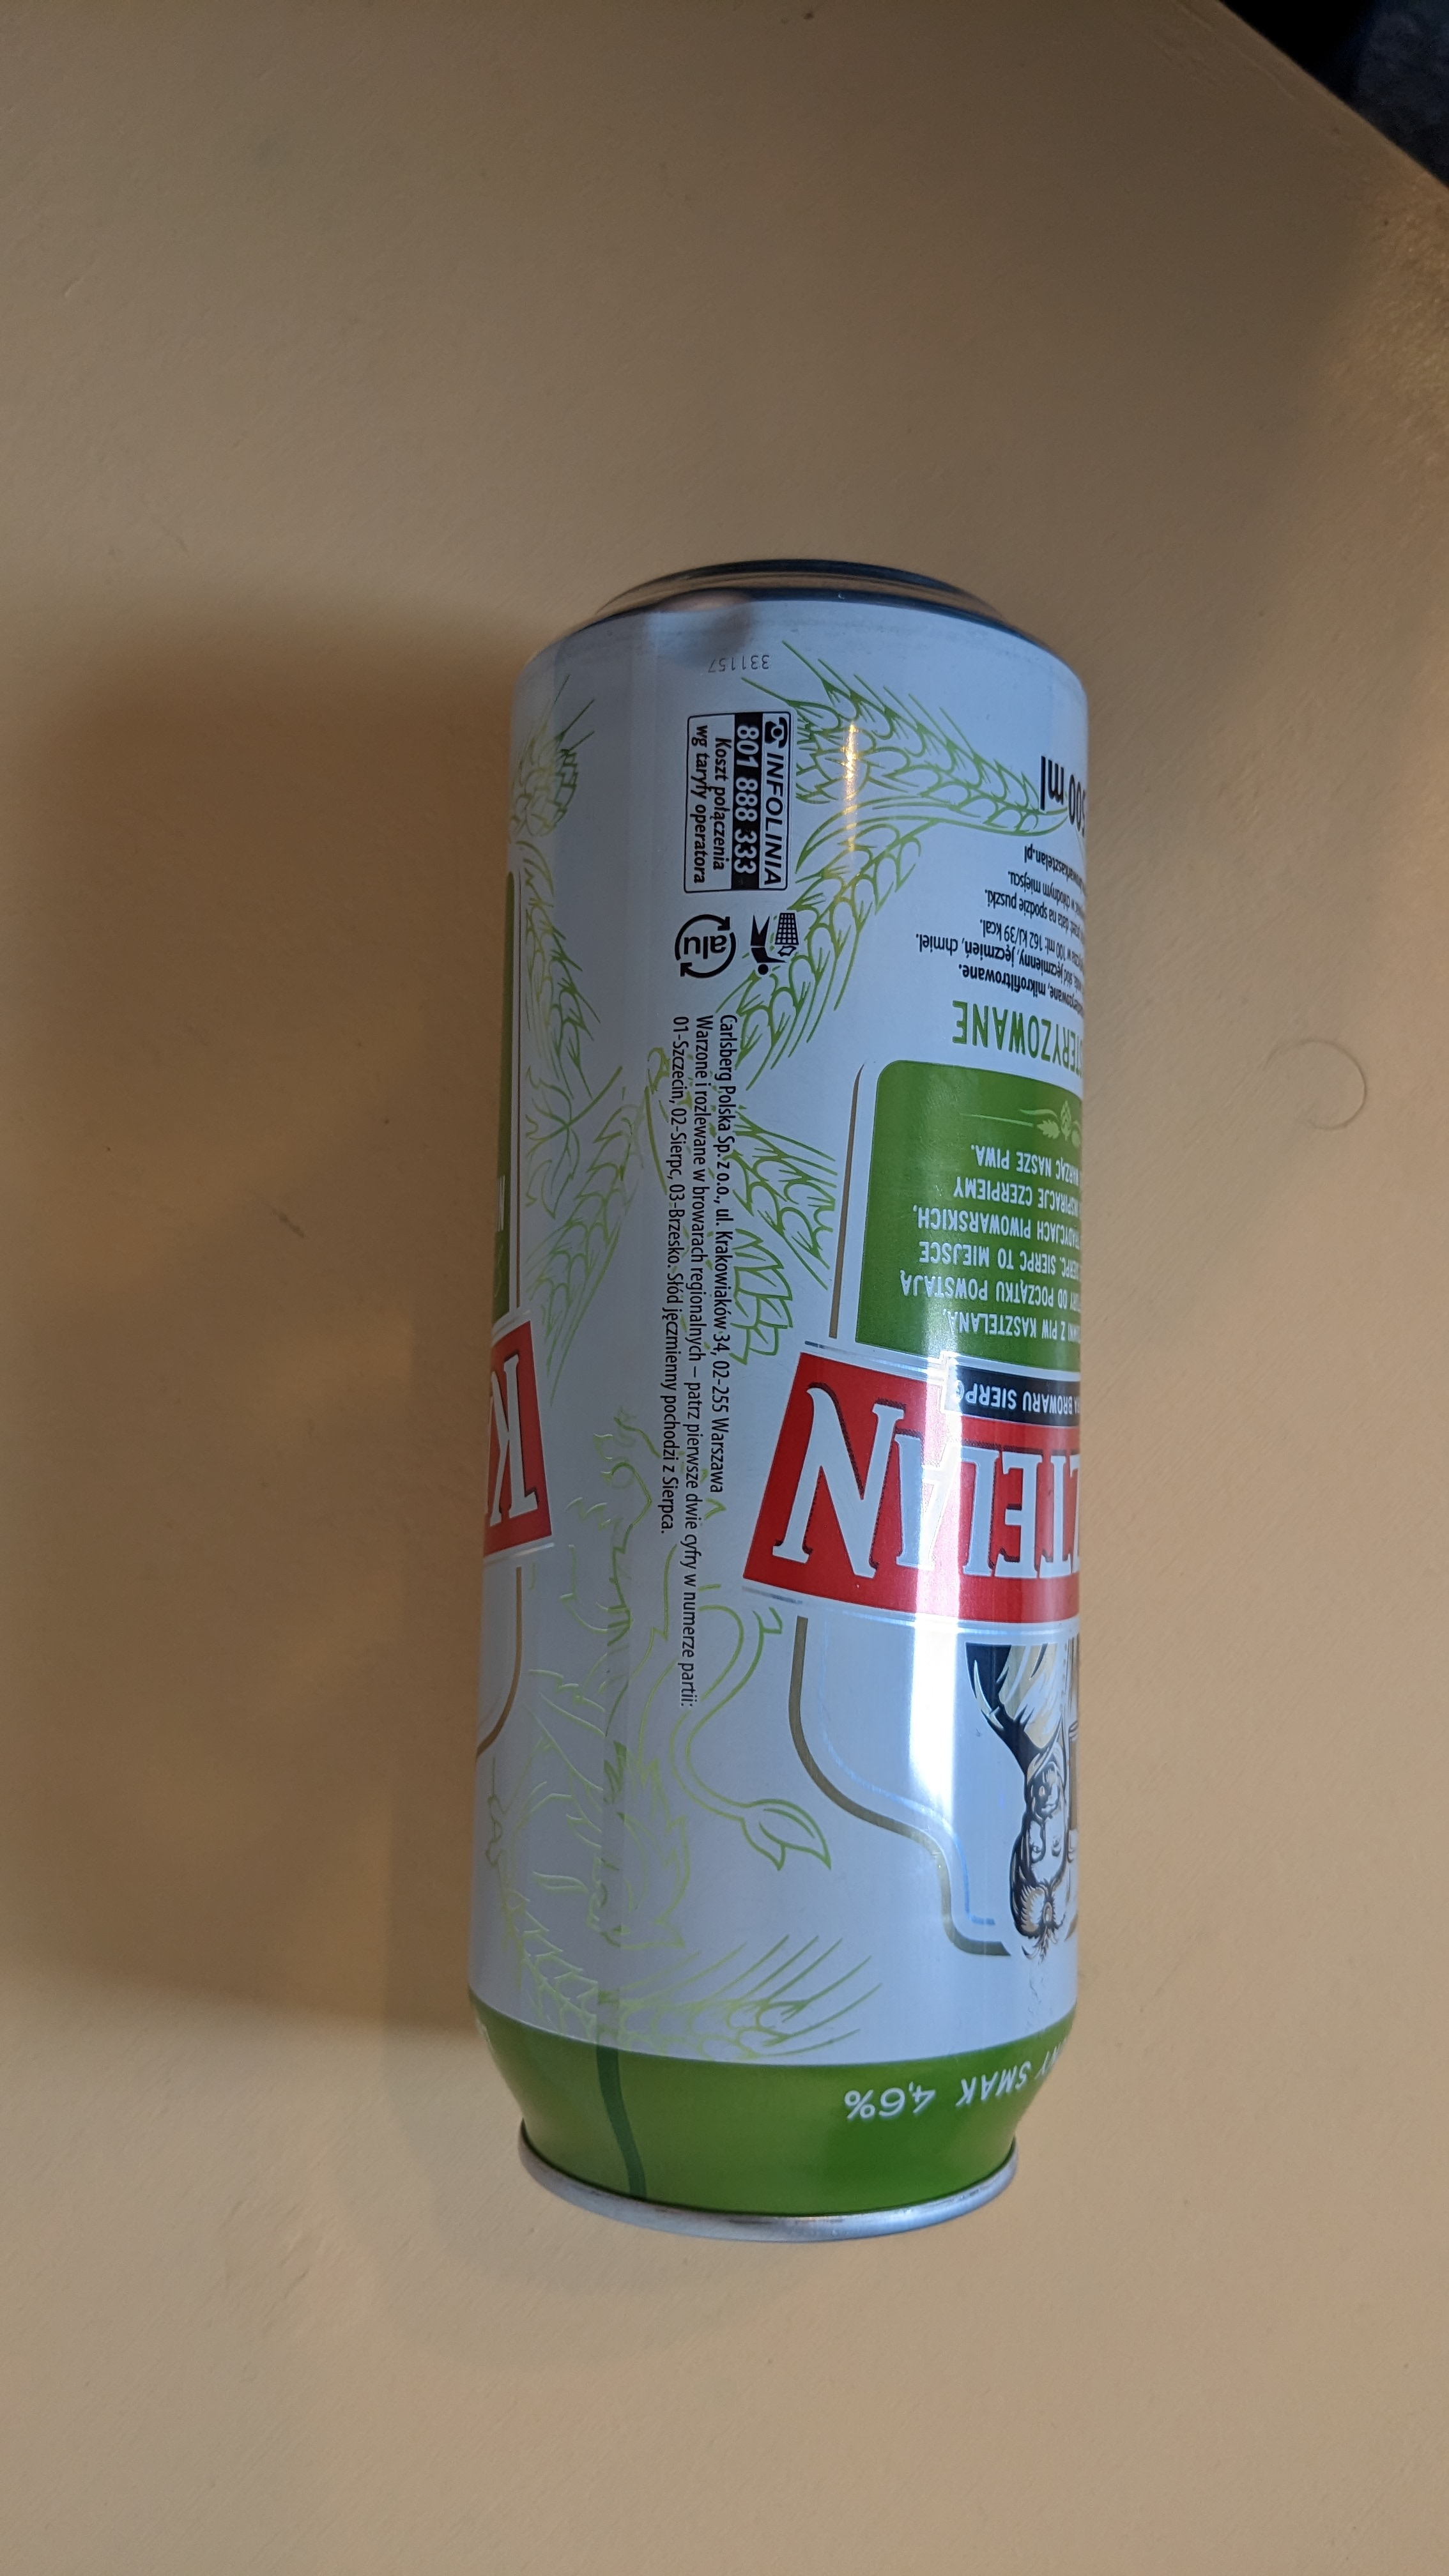kasztelan: (490, 570, 1093, 2282)
